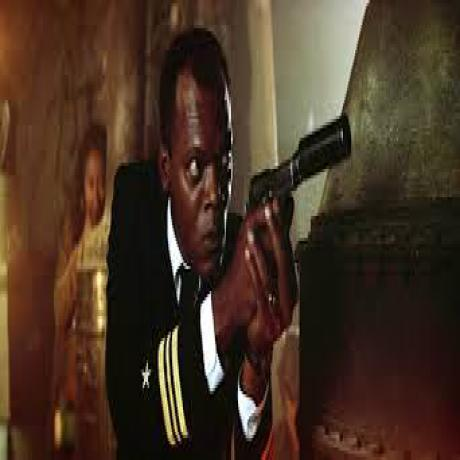Guns: (247, 104, 352, 245)
